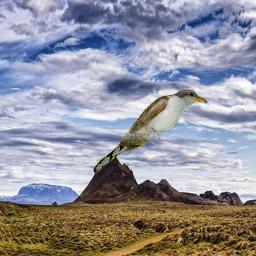Cuckoo: (91, 88, 210, 174)
